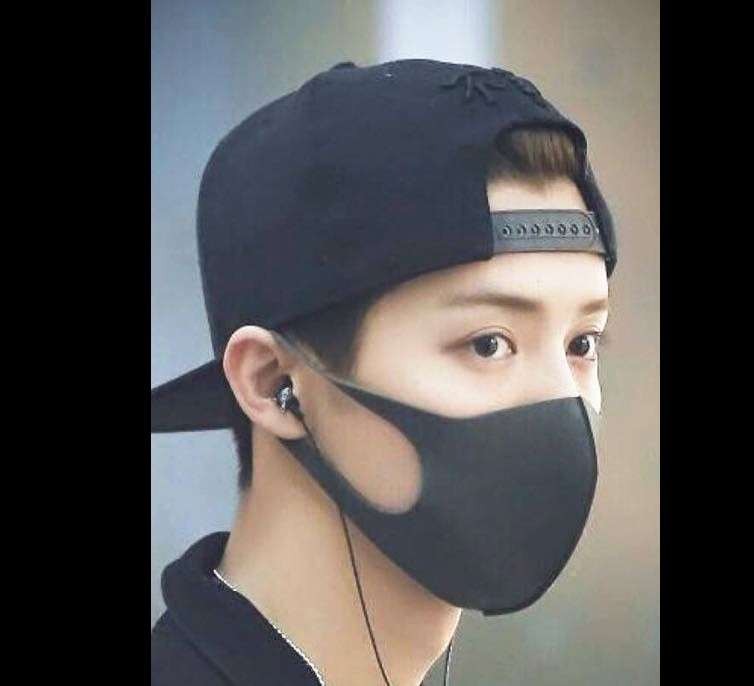face_mask: (320, 214, 611, 582)
